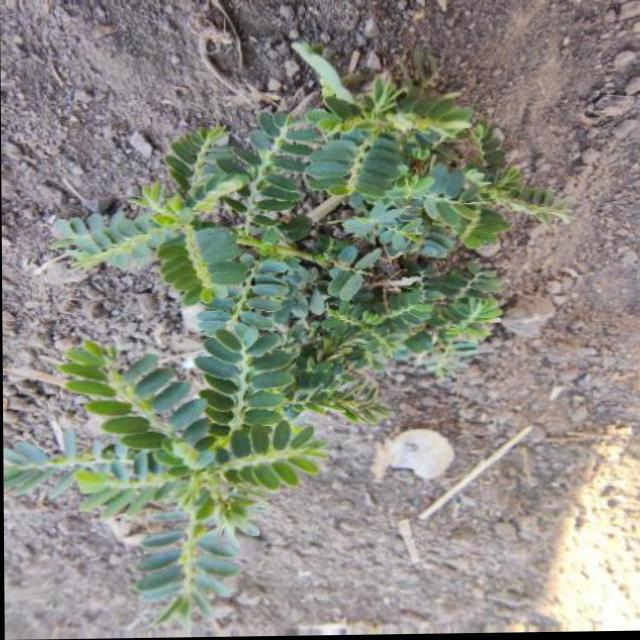weed: (5, 54, 540, 640)
